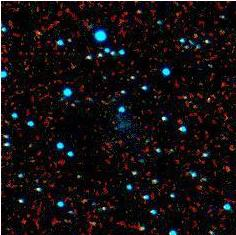star: (182, 20, 212, 50)
